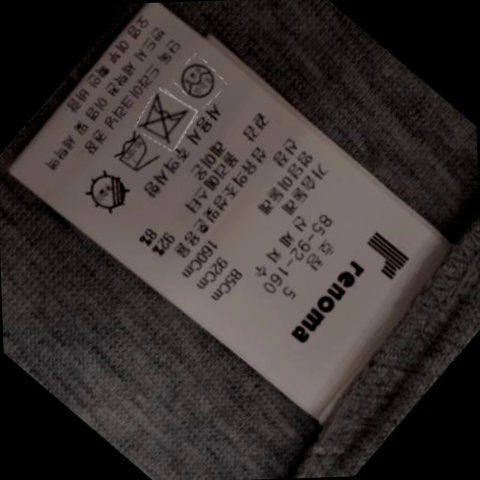DN_wash: (140, 97, 193, 141)
dry_clean_petrol_only: (179, 59, 220, 99)
iron_low: (112, 135, 159, 175)
line_dry_in_shade: (86, 172, 137, 213)
